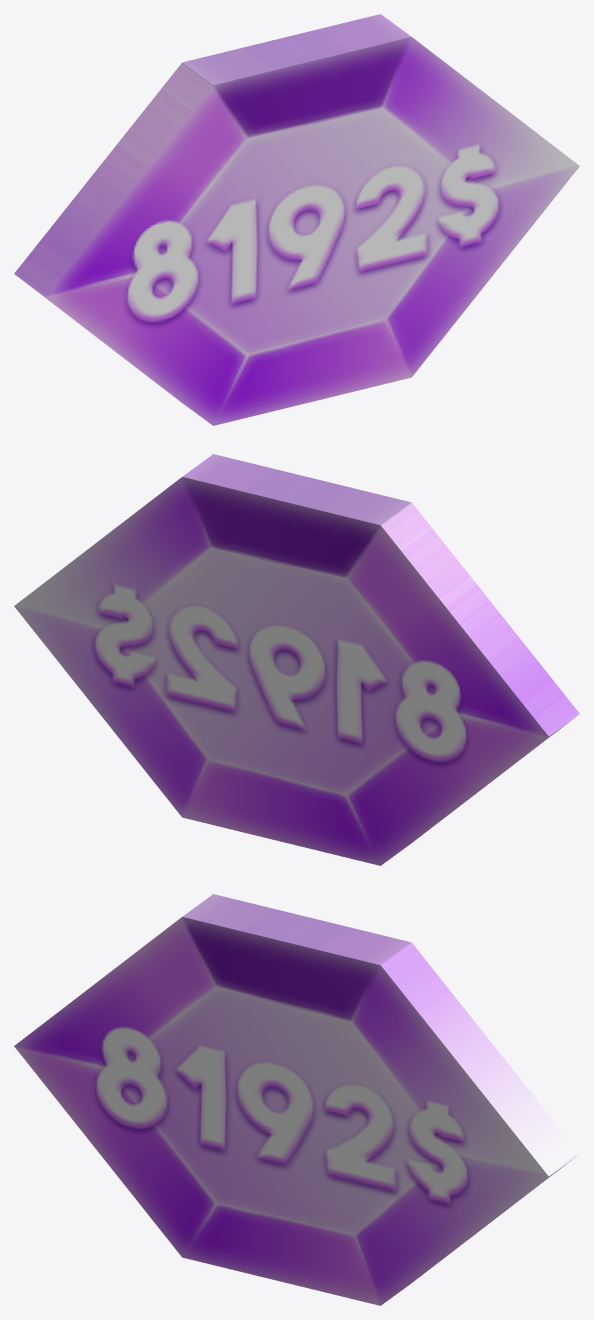
File: 16_8192Dollars.fbx
3 views of the same model, one above another, from view 1: azimuth 30°, elevation 25°; view 2: azimuth 150°, elevation 25°; view 3: azimuth 330°, elevation 25° (orthographic).
Visible parts, largest first — view 1: _8192KDollars; view 2: _8192KDollars; view 3: _8192KDollars.
Part boxes in pixels (x1=…): _8192KDollars: x1=14, y1=14, x2=579, y2=425; _8192KDollars: x1=14, y1=454, x2=579, y2=865; _8192KDollars: x1=14, y1=894, x2=579, y2=1305.
Size of the model in its own units: 74.81 by 45.54 by 7.54.
Materials: 1 (1 with a texture image).
